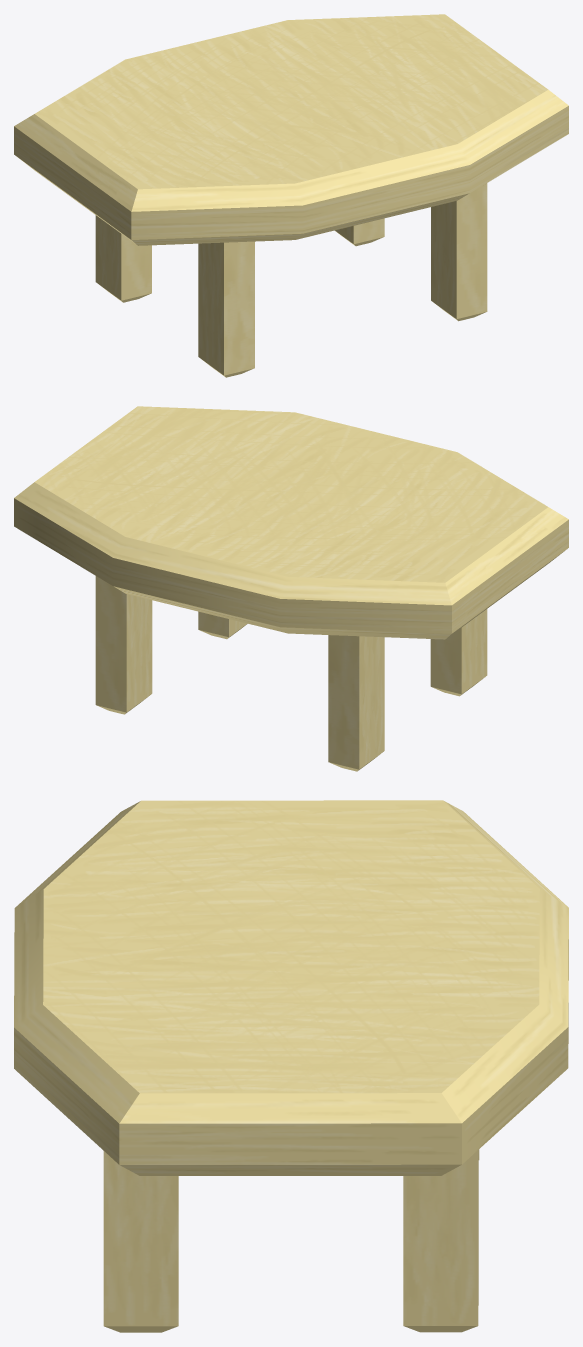
The model's file is Table_Kitchen_03.fbx.
3 renders of one model, top to bottom at view 1: azimuth 30°, elevation 25°; view 2: azimuth 150°, elevation 25°; view 3: azimuth 270°, elevation 25°, orthographic. The views are drawn at different scales.
Parts seen in each view (by area): view 1: Table_03; view 2: Table_03; view 3: Table_03.
Boxes of the visible parts, box(x1,y1,x2,y2) form: Table_03: box(14, 14, 568, 377); Table_03: box(14, 406, 568, 771); Table_03: box(14, 800, 568, 1332).
Size of the model in its own units: 6.48 by 2.87 by 4.87.
